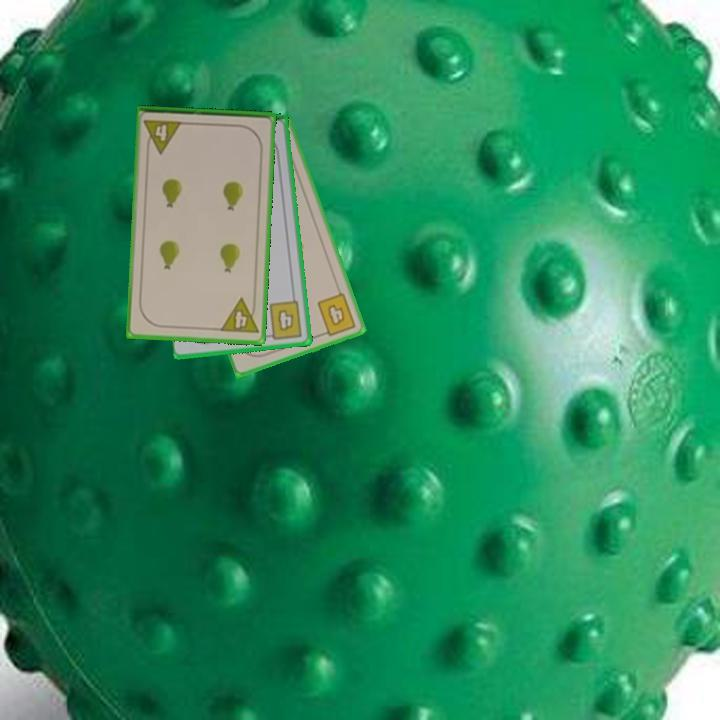4b: (314, 289, 359, 339), (262, 297, 305, 342)
4p: (217, 295, 261, 337), (141, 116, 185, 156)
